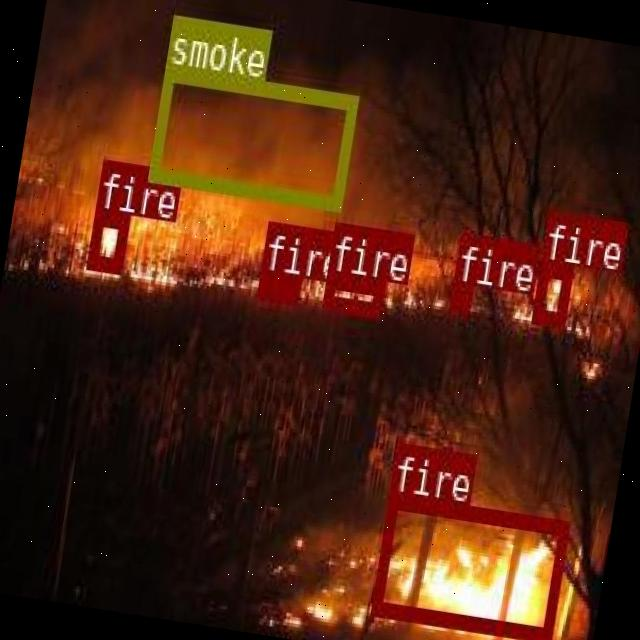fire: (370, 491, 569, 640), (530, 259, 572, 325), (86, 208, 128, 269), (322, 272, 382, 313), (257, 269, 302, 301), (448, 281, 472, 310)
smoke: (147, 63, 356, 208)
